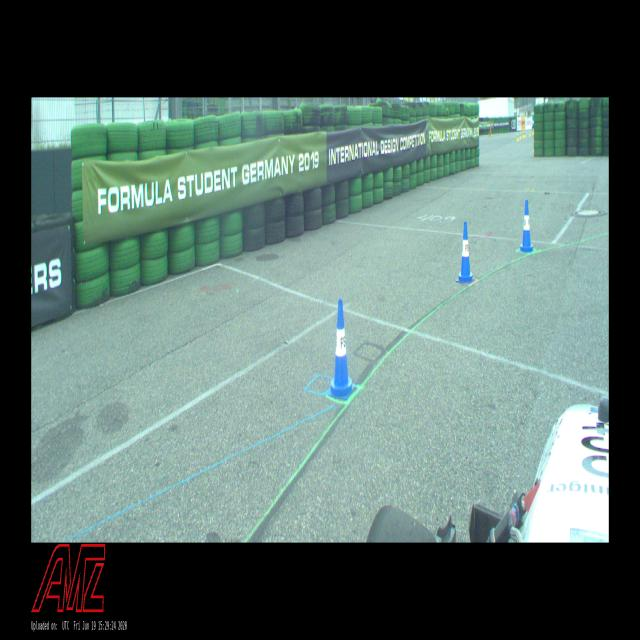blue_cone: (328, 299, 354, 401), (456, 222, 474, 284), (520, 200, 533, 252)
yellow_cone: (519, 132, 521, 140), (524, 130, 526, 138), (522, 131, 524, 138), (516, 134, 518, 141), (528, 130, 530, 136)
